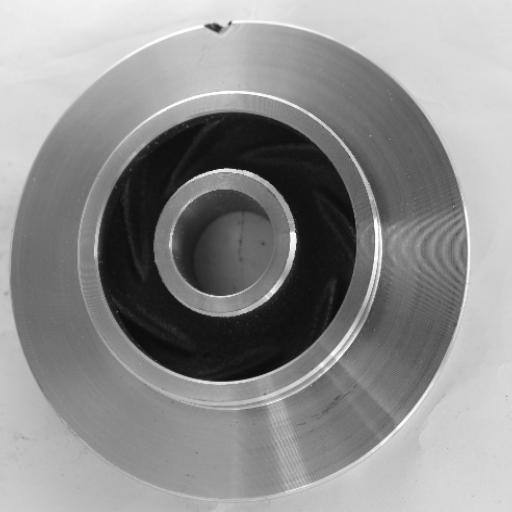crack: (190, 11, 242, 45)
unpolished_casting: (10, 19, 470, 503)
